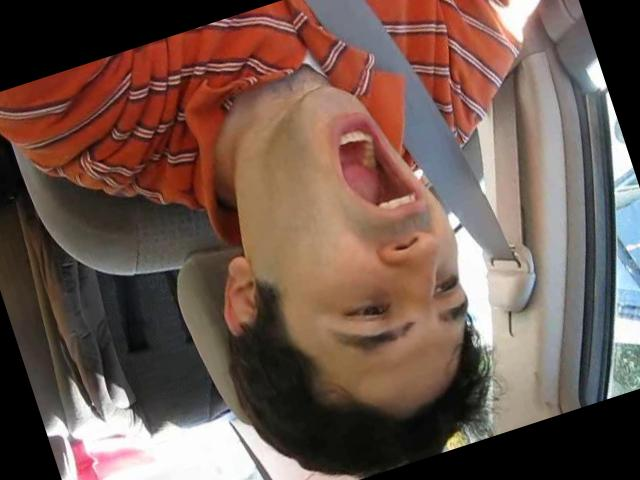eye_open: (336, 287, 399, 333), (429, 268, 468, 304)
face: (232, 58, 494, 396)
mouth_open: (319, 99, 430, 231)
